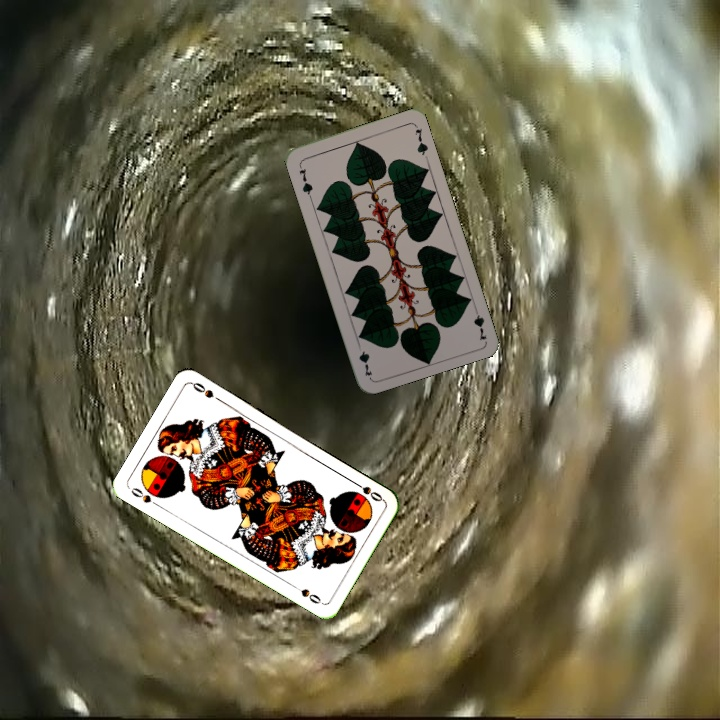G7: (294, 160, 315, 200), (469, 302, 489, 343)
SO: (349, 477, 386, 504), (127, 483, 162, 510)
